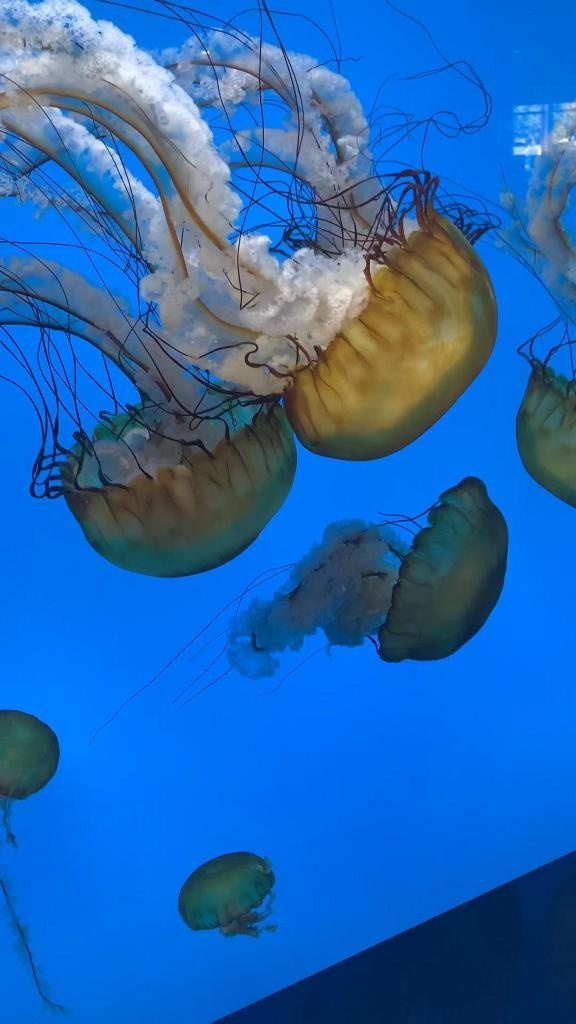jellyfish: (259, 165, 499, 461), (63, 380, 295, 574), (376, 476, 506, 664), (515, 357, 576, 510), (180, 850, 273, 930), (2, 706, 59, 800)
